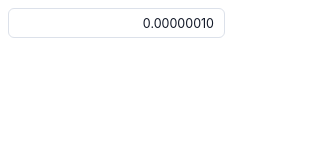
Test case: AmountField › показывает малое внешнее число десятичной строкой на фокусе
Click the field named "Сумма" at (116, 23), box [17,8,216,38]
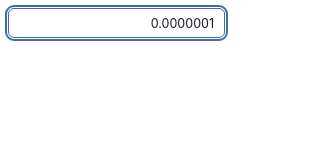
Check: the field named "Сумма" holds "0.0000001", box [17,8,216,38]
